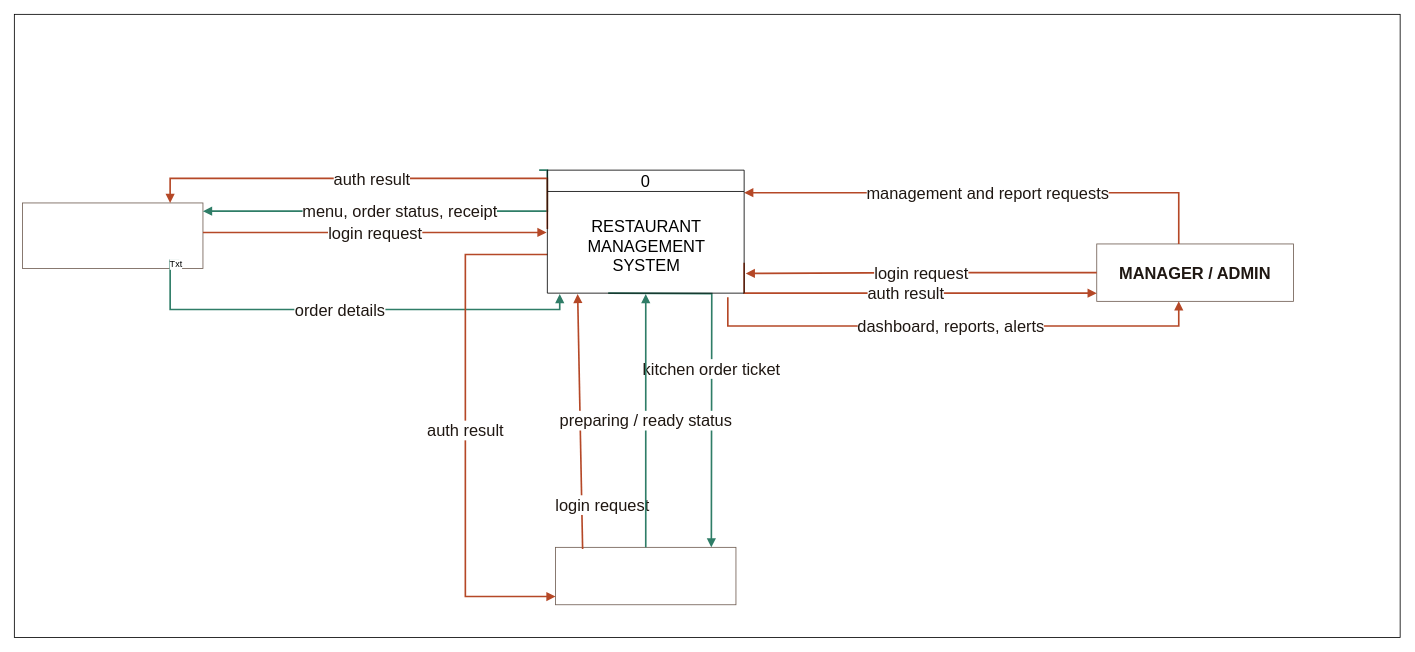
This 1415x652 diagram has some shape labels left out. Here are the shapes that lost their labels. From the top down, the centre of each, then its label:
At pixel 112 235: "CUSTOMER".
At pixel 645 576: "CHEF / KITCHEN STAFF".
